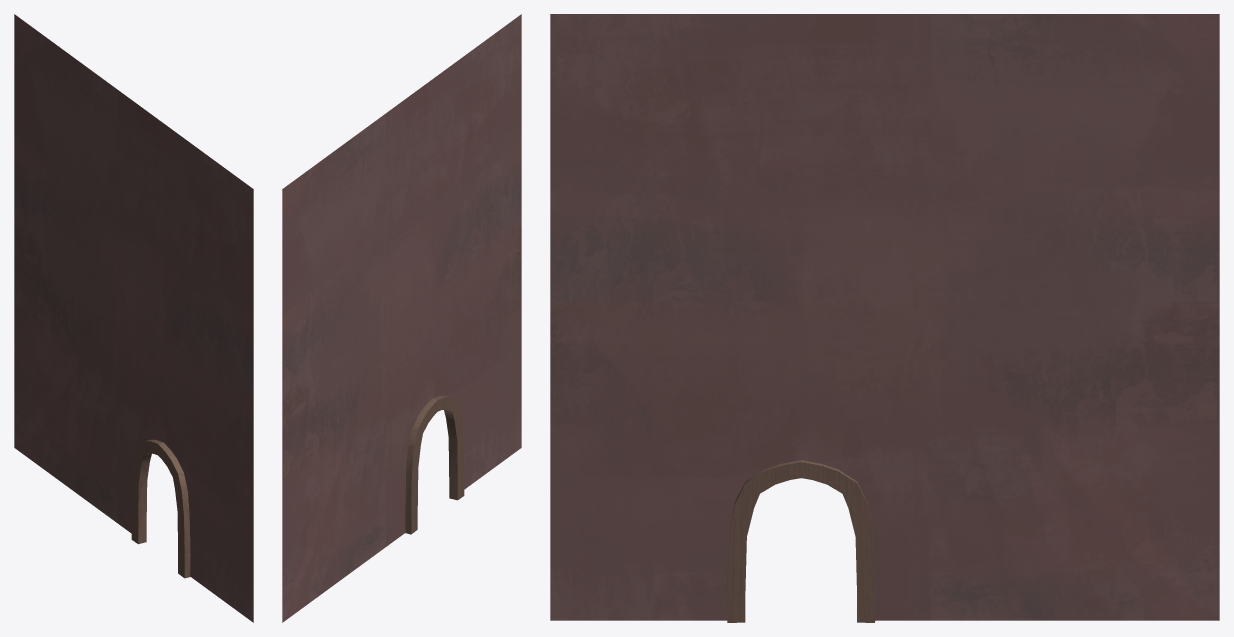
The model's file is WallPanel_OpeningCorridor.fbx.
3 renders of one model, left to right at view 1: azimuth 30°, elevation 25°; view 2: azimuth 150°, elevation 25°; view 3: azimuth 270°, elevation 25°, orthographic. The views are drawn at different scales.
Parts seen in each view (by area): view 1: WallPanel_CorridorOpening, Opening; view 2: WallPanel_CorridorOpening, Opening; view 3: WallPanel_CorridorOpening, Opening.
Boxes of the visible parts, <box> form: WallPanel_CorridorOpening: <box>14,14,253,622</box>; Opening: <box>131,439,190,578</box>; WallPanel_CorridorOpening: <box>282,14,521,622</box>; Opening: <box>405,395,464,534</box>; WallPanel_CorridorOpening: <box>550,14,1219,620</box>; Opening: <box>727,460,875,622</box>.
Bounding box in the file's own units: 41.09 × 2002 × 2000.
